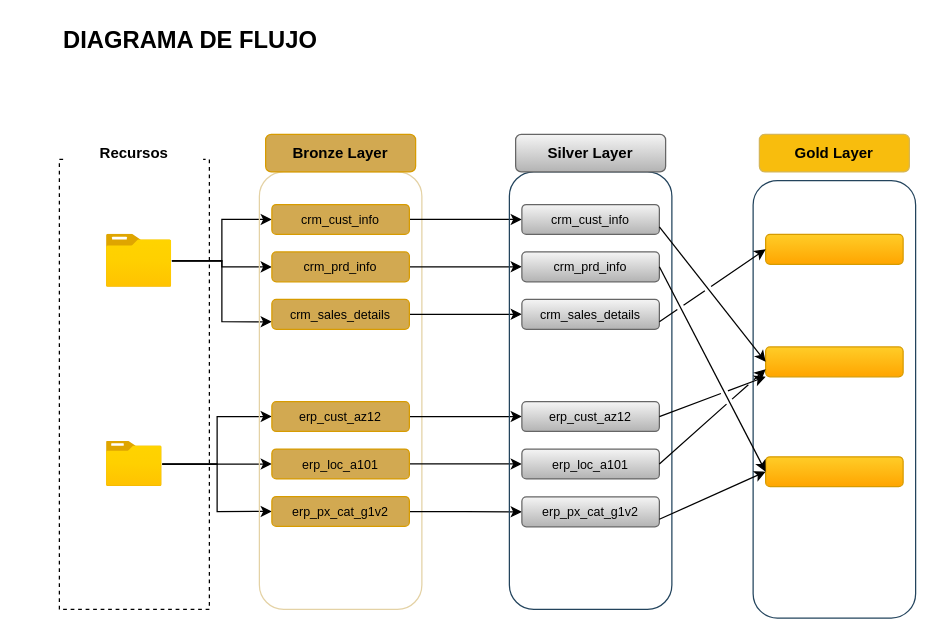
The diagram is 938 pixels wide and 640 high, and some of its shapes have lost their labels. The centre of each missing label's shape, as x and y in pixels:
"CRM" belongs at pixel 138 260.
"dim_customer" belongs at pixel 833 361.
"dim_products" belongs at pixel 833 471.
"ERP" belongs at pixel 134 463.
"fact_sales" belongs at pixel 833 248.
